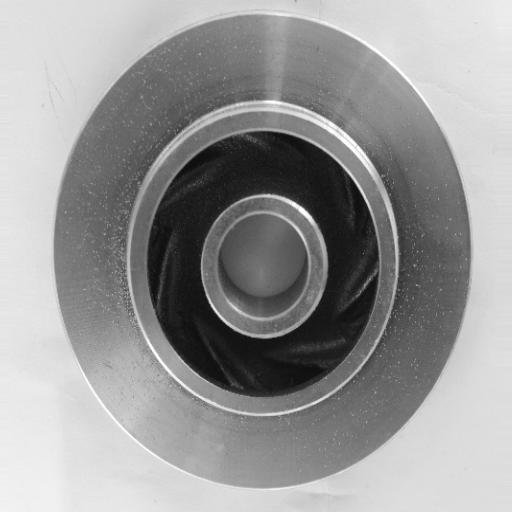polished_casting: (53, 9, 471, 492)
